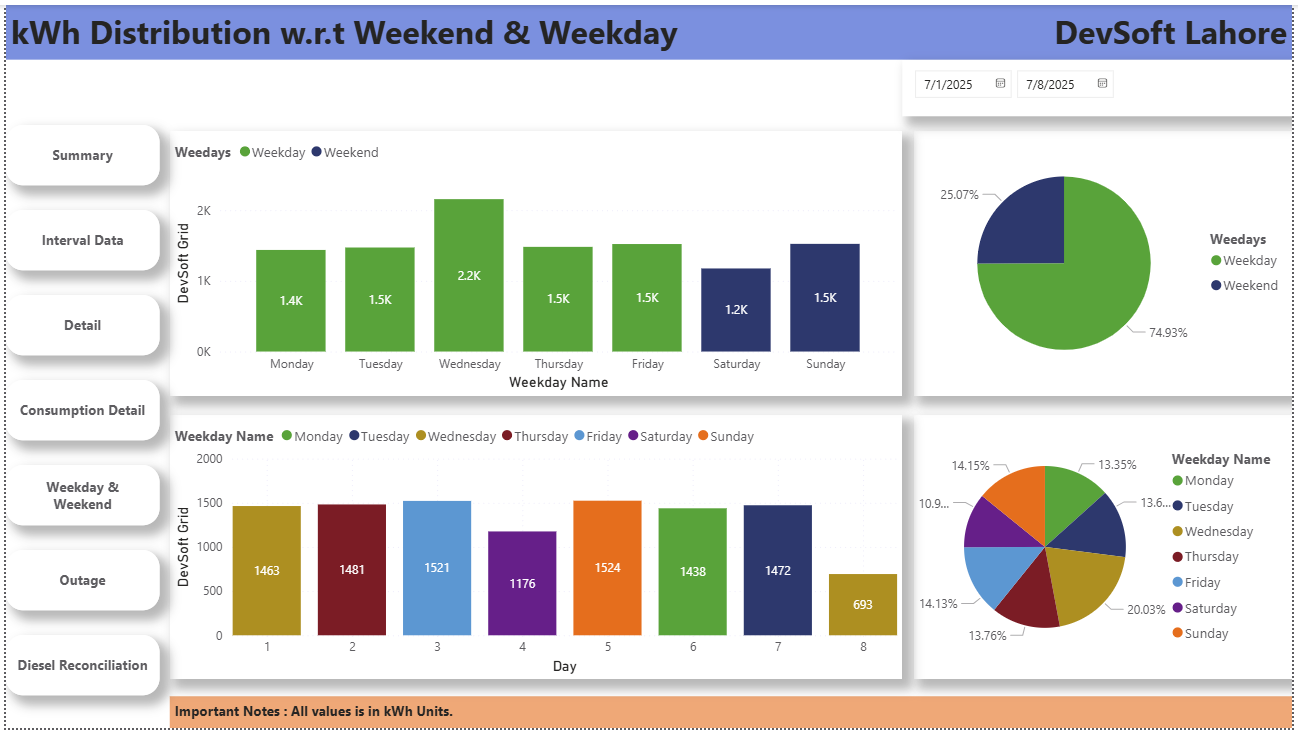

The dashboard page shown, as its layout file describes it:
{"tool":"powerbi","page":{"name":"DevSoft Lahore : kWh Distribution w.r.t Weekend & Weekday","canvas":[1280,720],"ordinal":4},"visuals":[{"type":"textbox","box":[0,0,1280,54.3],"z":0},{"type":"image","box":[0,0,269.9,54.3],"z":1000},{"type":"textbox","box":[269.9,1.4,609.4,52.9],"z":2000},{"type":"slicer","fields":{"Values":["Calendar.Date"]},"box":[891.8,54.3,388.2,55.7],"z":3000},{"type":"textbox","box":[162.8,687.3,1117.2,33.4],"z":4000},{"type":"columnChart","fields":{"Y":["Key Measure.DevSoft Grid"],"Category":["Weekdays.WeekdayName"],"Series":["Weekdays.WeedaysAndNot"]},"box":[162.8,125.2,729,263],"z":5000},{"type":"pieChart","fields":{"Category":["Weekdays.WeedaysAndNot"],"Y":["Key Measure.DevSoft Grid"]},"box":[903,125.2,377,263],"z":6000},{"type":"columnChart","fields":{"Y":["Key Measure.DevSoft Grid"],"Series":["Weekdays.WeekdayName"],"Category":["Transworld*_fact.Day"]},"box":[162.8,407.7,729,263],"z":7000},{"type":"pieChart","fields":{"Category":["Weekdays.WeekdayName"],"Y":["Key Measure.DevSoft Grid"],"Series":["Weekdays.WeedaysAndNot"]},"box":[903,407.7,377,263],"z":8000},{"type":"actionButton","box":[0,119.7,153,59.8],"z":9000},{"type":"actionButton","box":[0,204.3,153,59.8],"z":10000},{"type":"actionButton","box":[0,288.9,153,59.8],"z":11000},{"type":"actionButton","box":[0,373.6,153,59.8],"z":12000},{"type":"actionButton","box":[0,458.2,153,59.8],"z":13000},{"type":"actionButton","box":[0,542.8,153,59.8],"z":14000},{"type":"actionButton","box":[0,627.5,153,59.8],"z":15000}]}

Visuals, with their boxes in screenshot pixels (x1, y1, x2, y2), scaled from the page's 1280x720 canvas onto the 1298x732 screenshot:
textbox: 0, 0, 1297, 55
image: 0, 0, 274, 55
textbox: 274, 1, 892, 55
slicer - Calendar.Date: 904, 55, 1297, 112
textbox: 165, 699, 1297, 731
columnChart - Key Measure.DevSoft Grid x Weekdays.WeekdayName: 165, 127, 904, 395
pieChart - Weekdays.WeedaysAndNot x Key Measure.DevSoft Grid: 916, 127, 1297, 395
columnChart - Key Measure.DevSoft Grid x Weekdays.WeekdayName: 165, 414, 904, 682
pieChart - Weekdays.WeekdayName x Key Measure.DevSoft Grid: 916, 414, 1297, 682
actionButton: 0, 122, 155, 182
actionButton: 0, 208, 155, 269
actionButton: 0, 294, 155, 355
actionButton: 0, 380, 155, 441
actionButton: 0, 466, 155, 527
actionButton: 0, 552, 155, 613
actionButton: 0, 638, 155, 699
